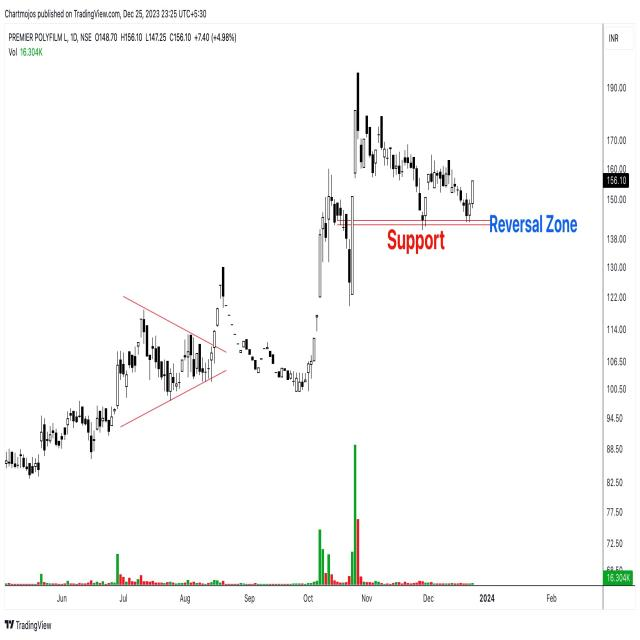Triangle: (107, 296, 239, 430)
